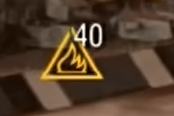1fire: (35, 49, 107, 83)
